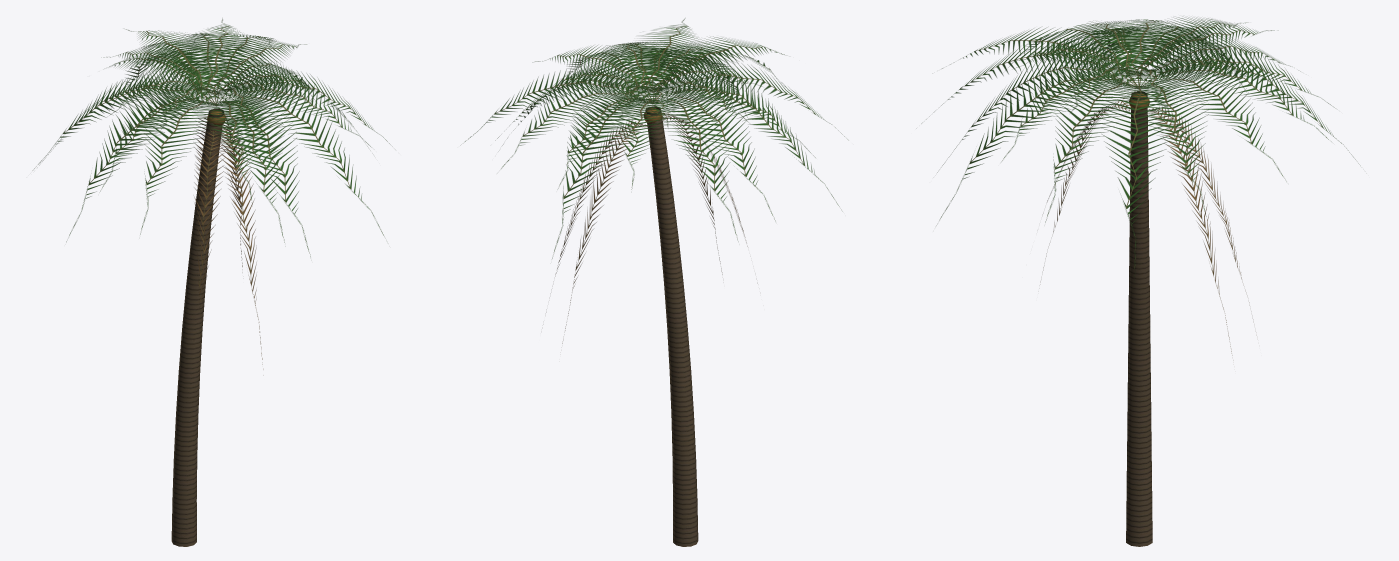
Rendered from palm-a.glb.
The picture shows the model from 3 angles, left to right: view 1: azimuth 30°, elevation 25°; view 2: azimuth 150°, elevation 25°; view 3: azimuth 270°, elevation 25°; orthographic projection. The views are drawn at different scales.
Parts seen in each view (by area): view 1: Palm11; view 2: Palm11; view 3: Palm11.
Boxes of the visible parts, x1,y1,x2,y2 form: Palm11: (32, 18, 390, 546); Palm11: (465, 18, 848, 546); Palm11: (921, 17, 1360, 546).
Bounding box in the file's own units: 8.39 × 10.58 × 9.05.
4 materials, 3 textured.
